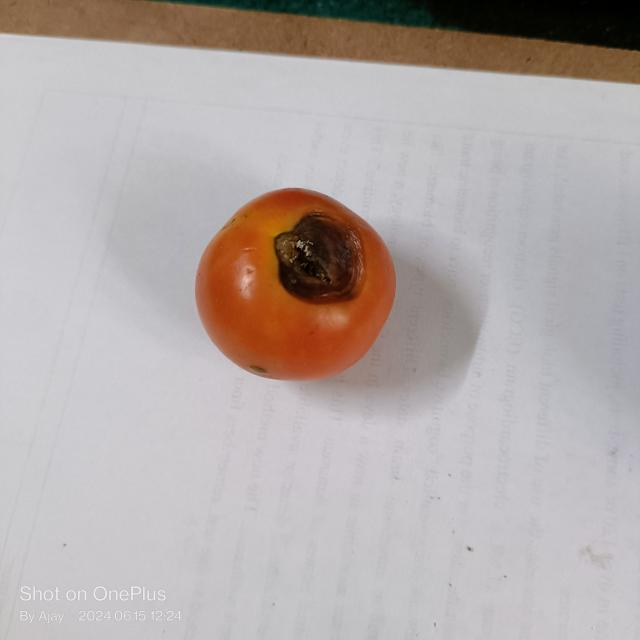Anthrocnose: (274, 210, 364, 312)
